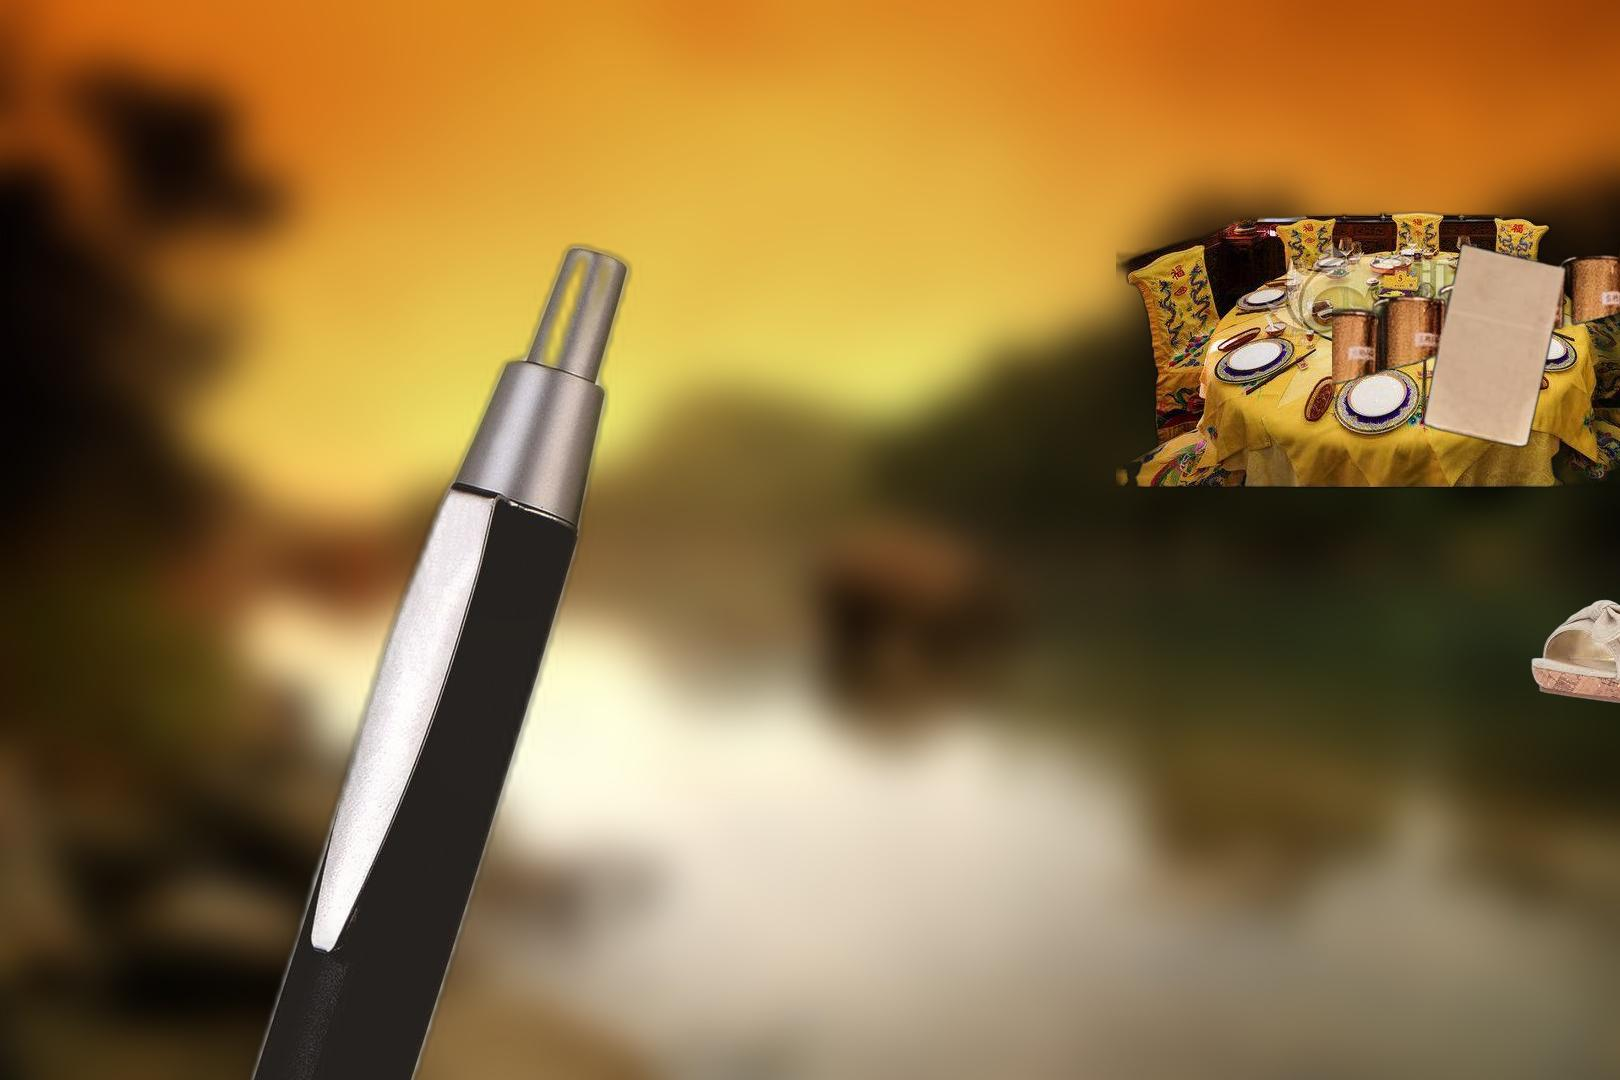biological: (1116, 190, 1620, 507)
paper-bag: (1332, 240, 1620, 450)
penholder: (18, 229, 644, 1080)
shoes: (1528, 518, 1620, 708)
